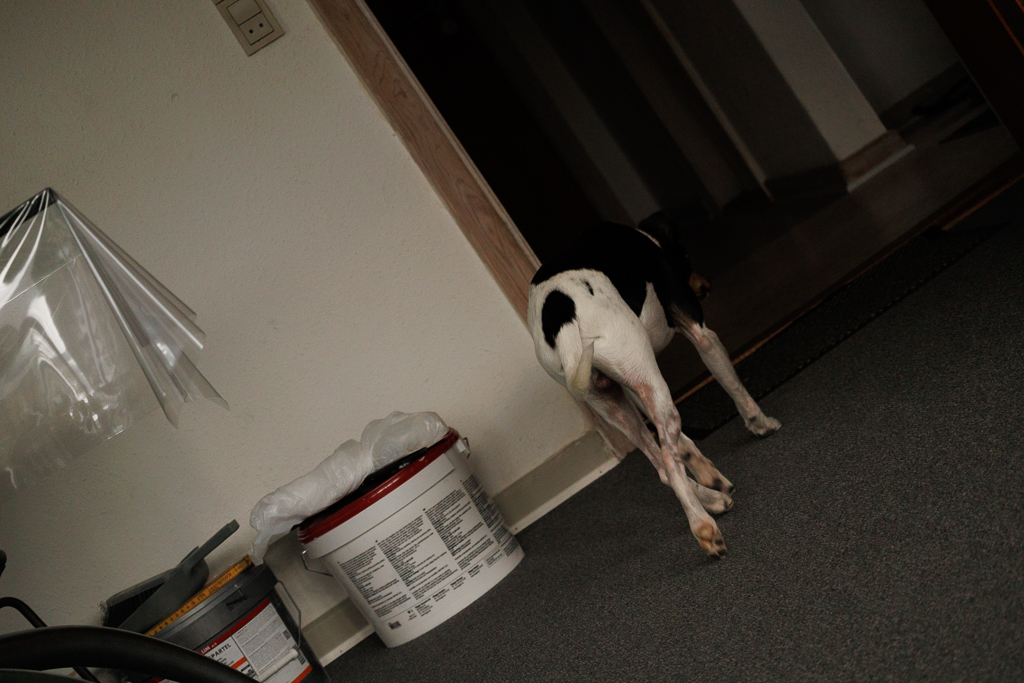Dog: (516, 193, 789, 568)
